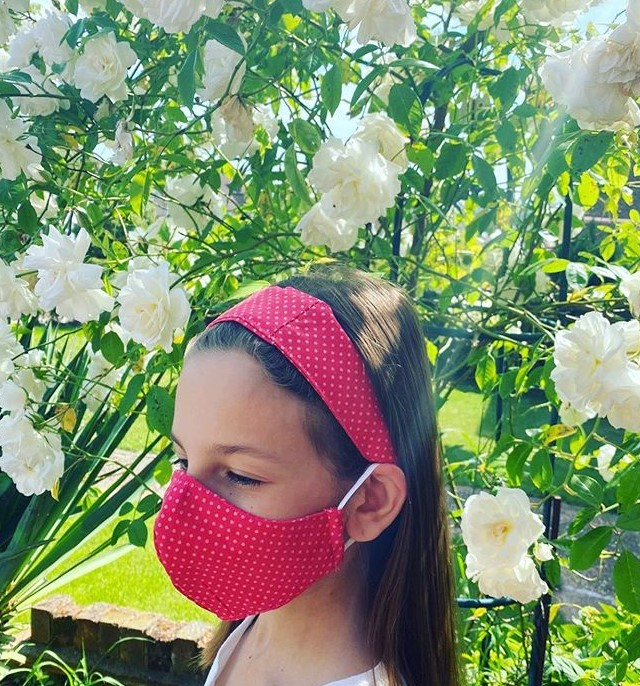face_with_mask: (152, 267, 437, 621)
